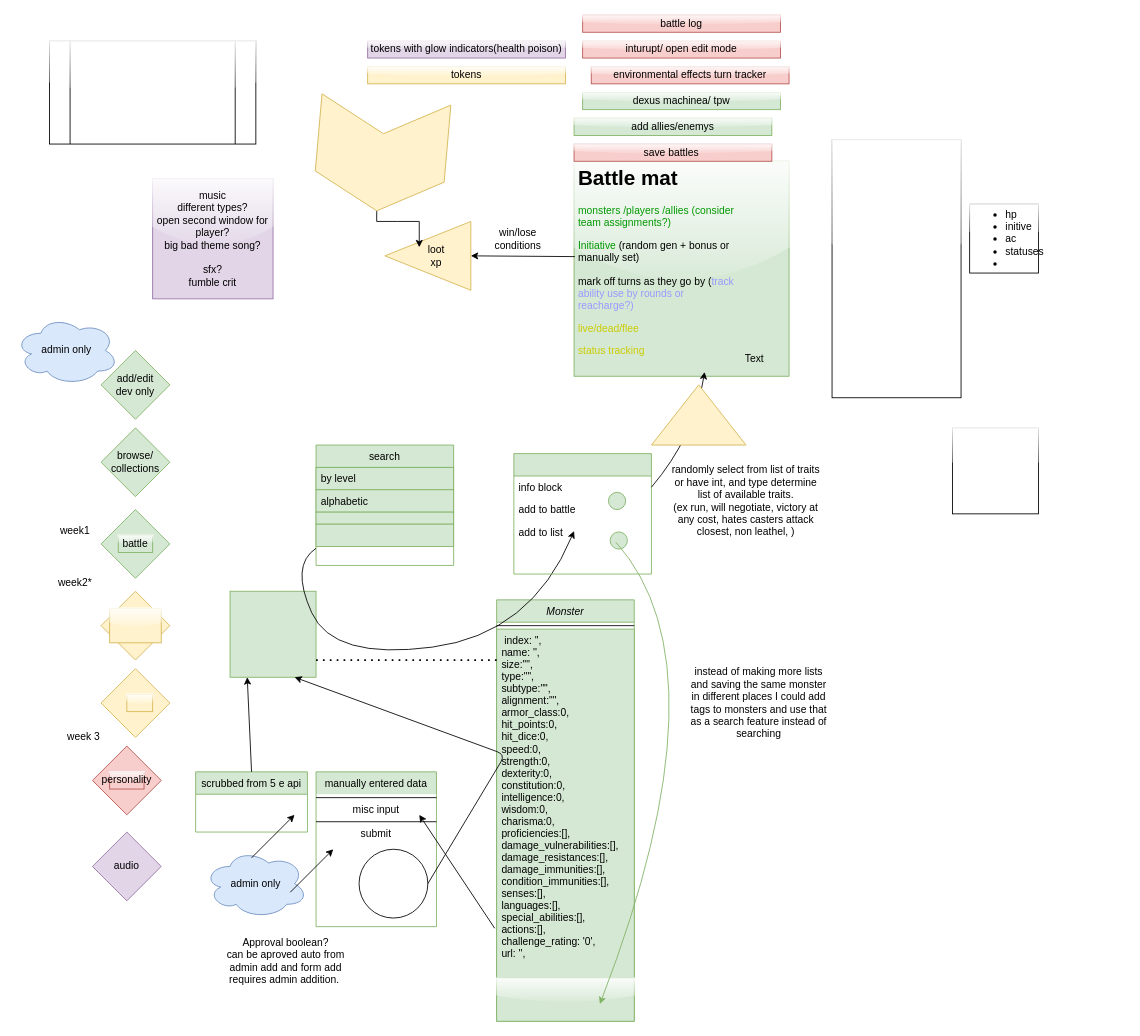
This 1140x1036 diagram has some shape labels left out. The box of each missing label's shape, as (x1, y1, x2, y2) in pixels:
attack defend info: (952, 427, 1038, 514)
battle name initive red team members blue team members: (831, 139, 961, 398)
by type: (315, 511, 454, 524)
collection: (315, 523, 454, 547)
collections:[],: (496, 977, 634, 1021)
display data: (513, 453, 651, 574)
loot system: (126, 694, 153, 712)
monster database: (229, 590, 316, 677)
must have multi battle instances: (49, 40, 256, 144)
personality gen: (651, 384, 746, 445)
reward dm selected reward table random item: (311, 93, 451, 217)
style: (109, 608, 161, 643)
